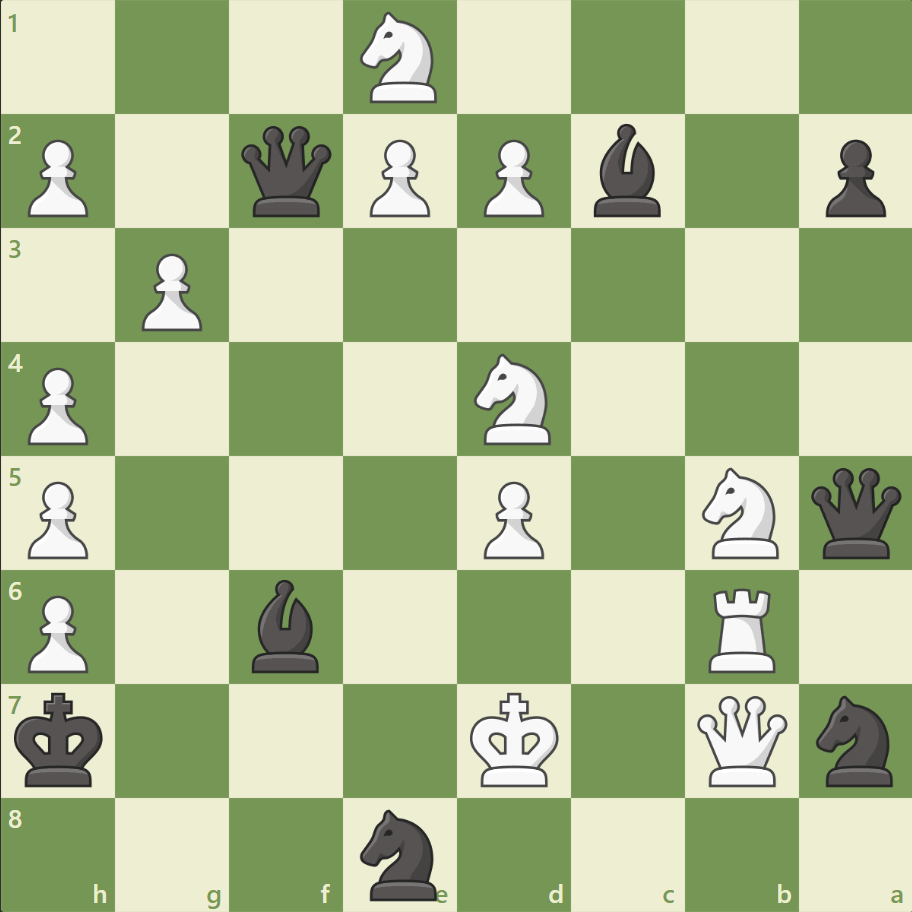K: (465, 685, 565, 793)
N: (351, 7, 449, 110), (692, 461, 789, 564), (465, 348, 562, 450)
P: (20, 586, 95, 677), (474, 473, 549, 564), (20, 473, 95, 564), (20, 359, 95, 450), (133, 246, 208, 337), (474, 132, 549, 223), (20, 132, 95, 223), (361, 132, 435, 223)
Q: (691, 690, 790, 789)
R: (700, 579, 783, 676)
b: (244, 574, 328, 676), (585, 120, 669, 222)
k: (11, 685, 111, 793)
n: (351, 802, 449, 904), (806, 688, 903, 791)
p: (815, 132, 889, 223)
q: (237, 122, 336, 222), (805, 463, 904, 562)
